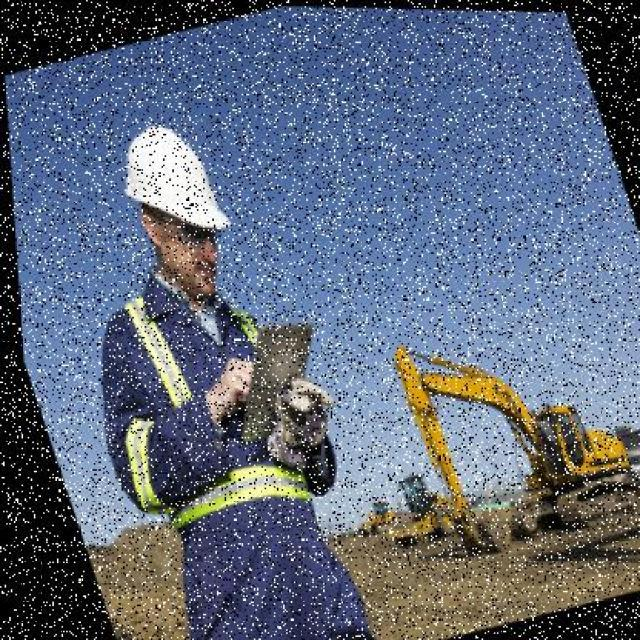helmet: (102, 108, 238, 260)
